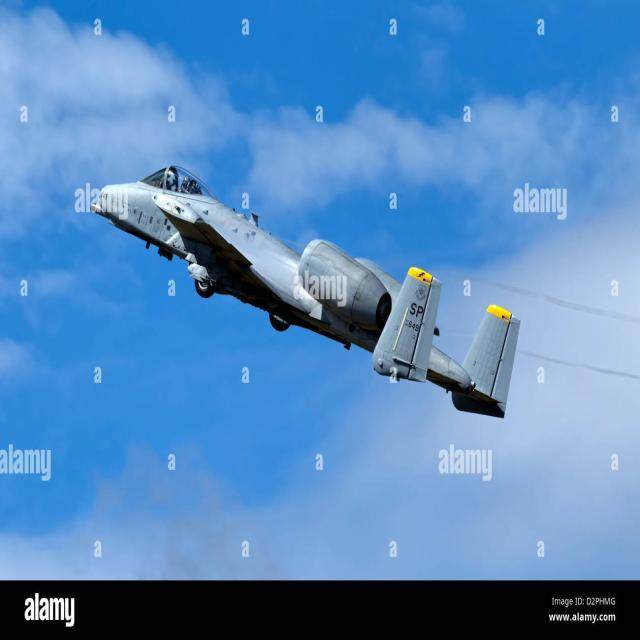A10: (84, 122, 576, 442)
